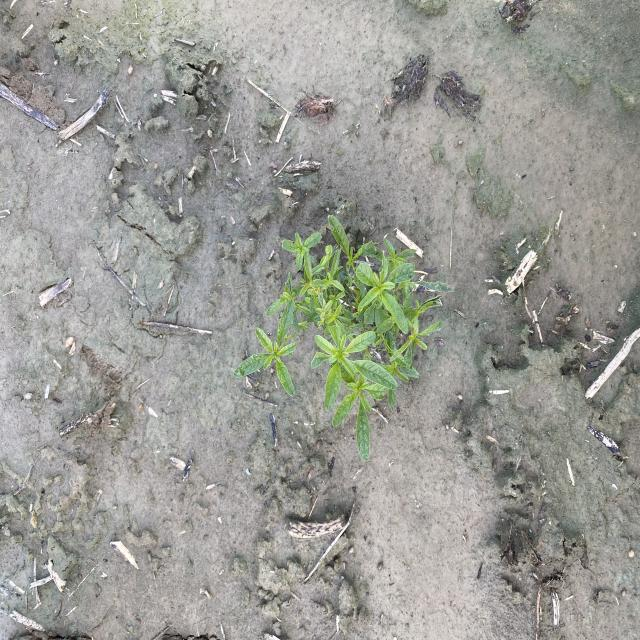Waterhemp: (233, 212, 457, 462)
